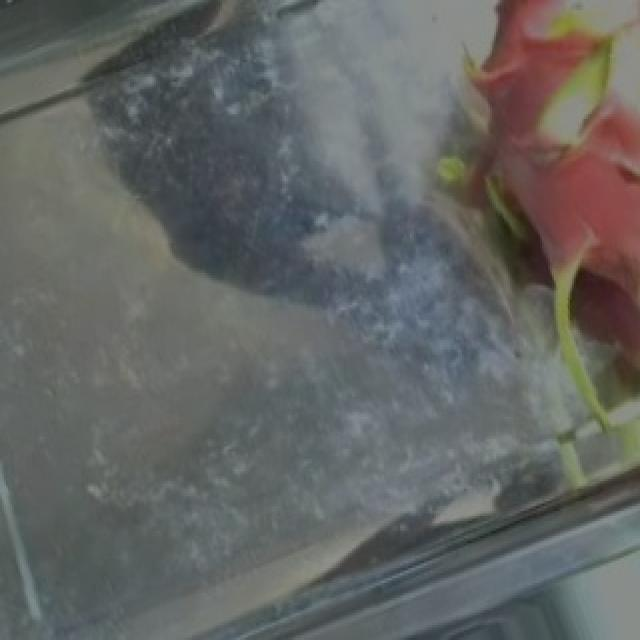fruit: (348, 7, 640, 469)
